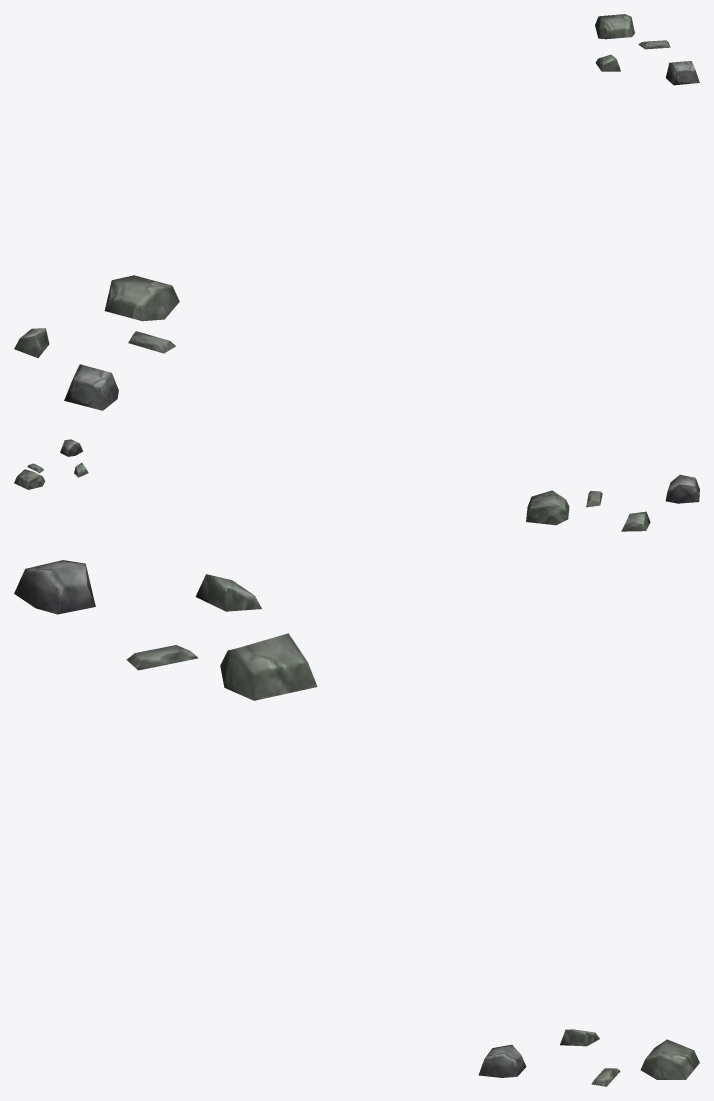
Rendered from Area_08_34.fbx.
The picture shows the model from 3 angles, top to bottom: view 1: azimuth 30°, elevation 25°; view 2: azimuth 150°, elevation 25°; view 3: azimuth 270°, elevation 25°; orthographic projection. The views are drawn at different scales.
Parts seen in each view (by area): view 1: Area_08_34; view 2: Area_08_34; view 3: Area_08_34.
Boxes of the visible parts, left/top/right/bottom form: Area_08_34: left=14, top=14, right=699, bottom=410; Area_08_34: left=14, top=439, right=699, bottom=531; Area_08_34: left=14, top=560, right=699, bottom=1086.
Bounding box in the file's own units: 1435 × 47.57 × 808.
